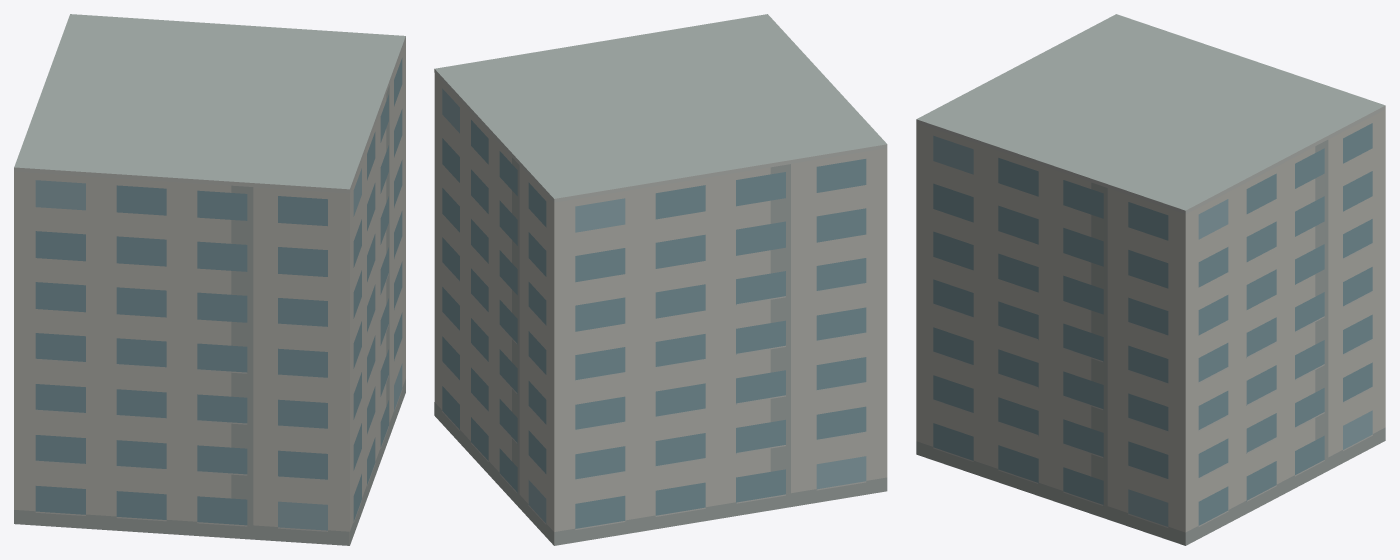
The model's file is residential-238ef720-8c94-4113-b23a-c4a06699787e.glb.
3 views of the same model, side by side, from view 1: azimuth 30°, elevation 25°; view 2: azimuth 150°, elevation 25°; view 3: azimuth 270°, elevation 25° (orthographic). The views are drawn at different scales.
Visible parts, largest first — view 1: residential-238ef720-8c94-4113-b23a-c4a06699787e.tmp; view 2: residential-238ef720-8c94-4113-b23a-c4a06699787e.tmp; view 3: residential-238ef720-8c94-4113-b23a-c4a06699787e.tmp.
Boxes of the visible parts, box(x1,y1,x2,y2) form: residential-238ef720-8c94-4113-b23a-c4a06699787e.tmp: box(14, 14, 405, 545); residential-238ef720-8c94-4113-b23a-c4a06699787e.tmp: box(434, 14, 887, 545); residential-238ef720-8c94-4113-b23a-c4a06699787e.tmp: box(916, 14, 1385, 545).
Size of the model in its own units: 26.86 by 21.35 by 27.09.
